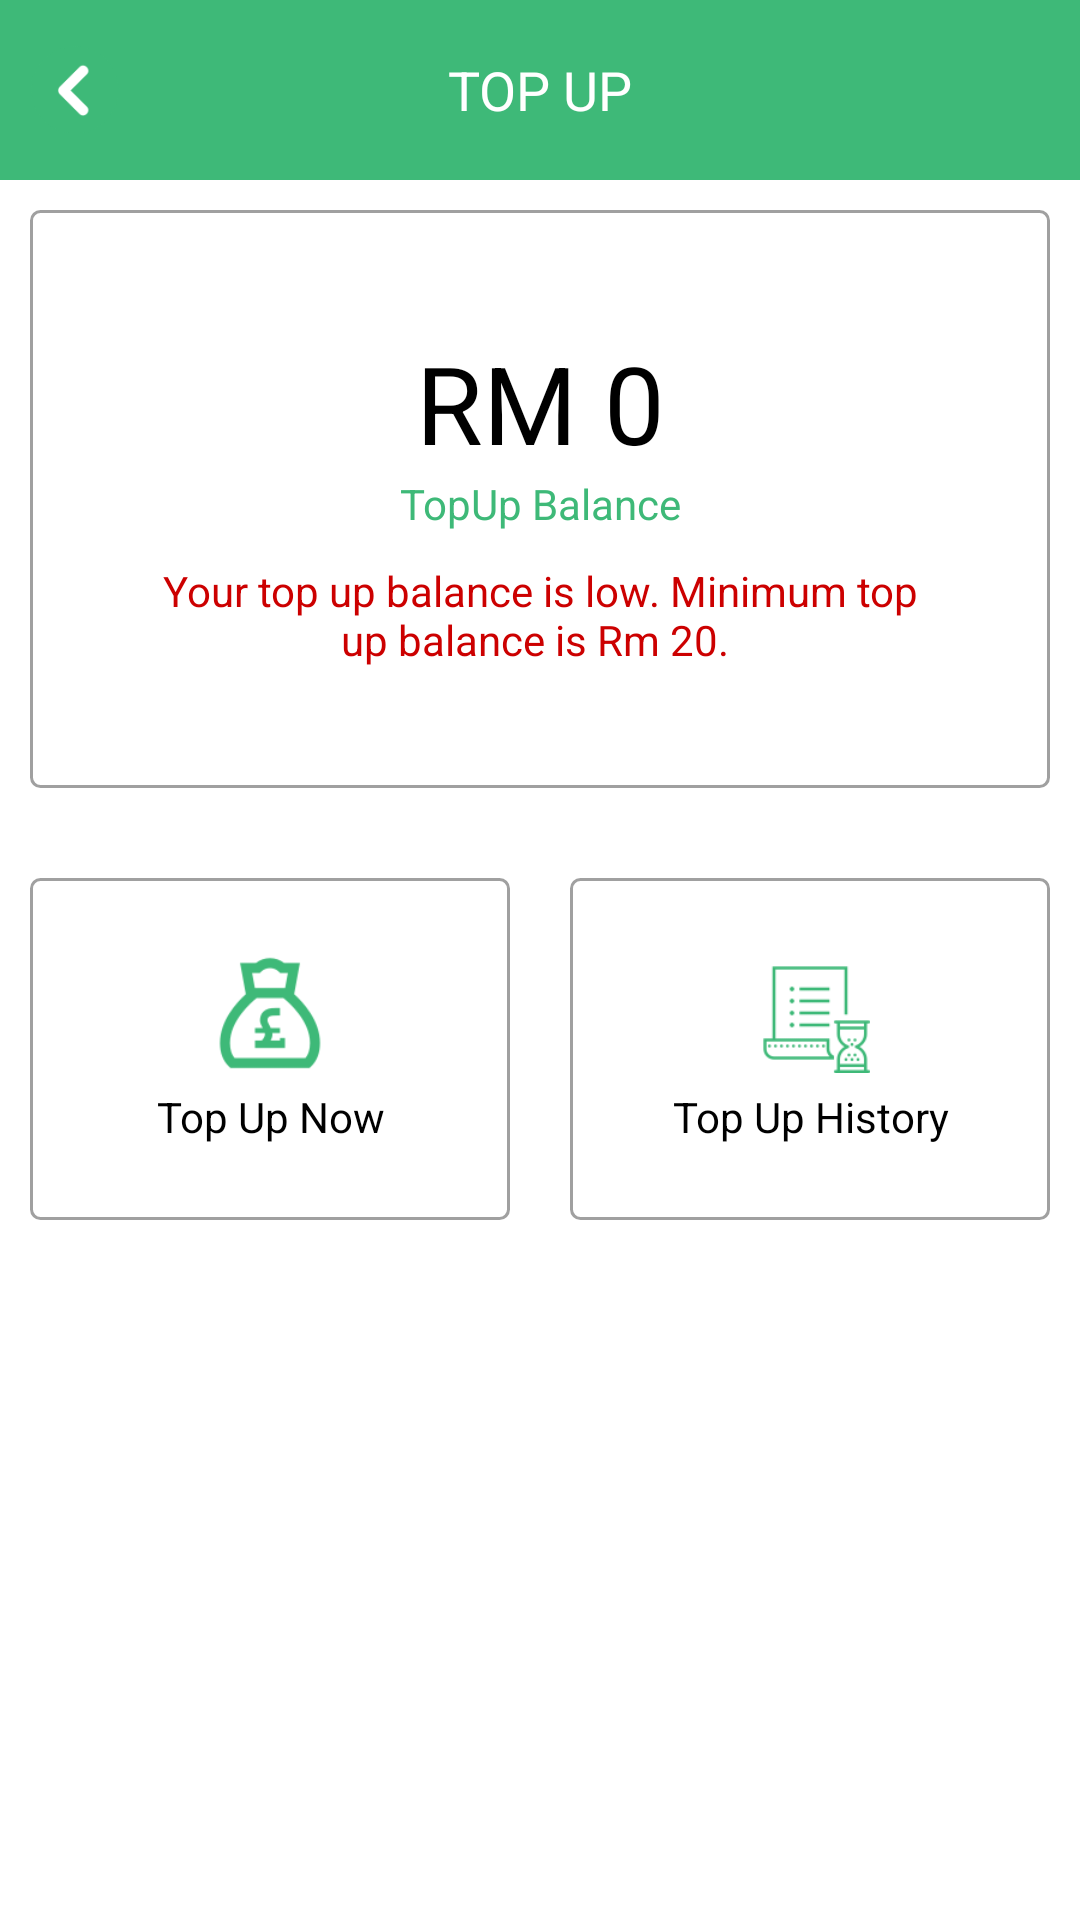

Where icons sit on this 1080×1920 app screen, as [x1,y1,x2,y2]:
back: [58,65,89,116]
